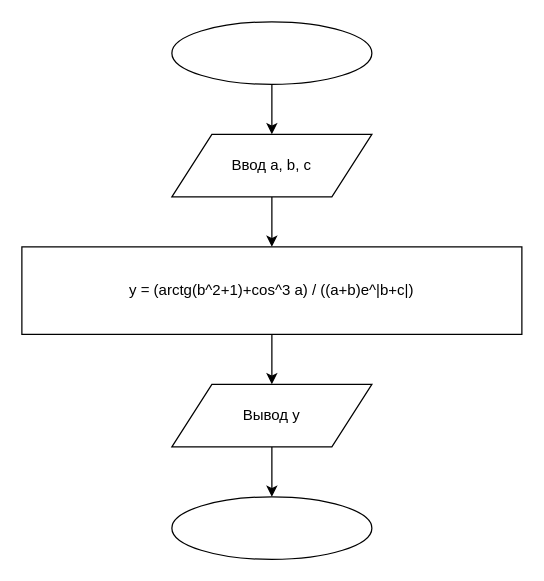
The diagram is 544 pixels wide and 581 high, and some of its shapes have lost their labels. The shapes that lost their labels are listed below. From the top down, each one's centre as x and y in pixels, then its label:
the point at 271,52: Начало
the point at 271,527: Конец
